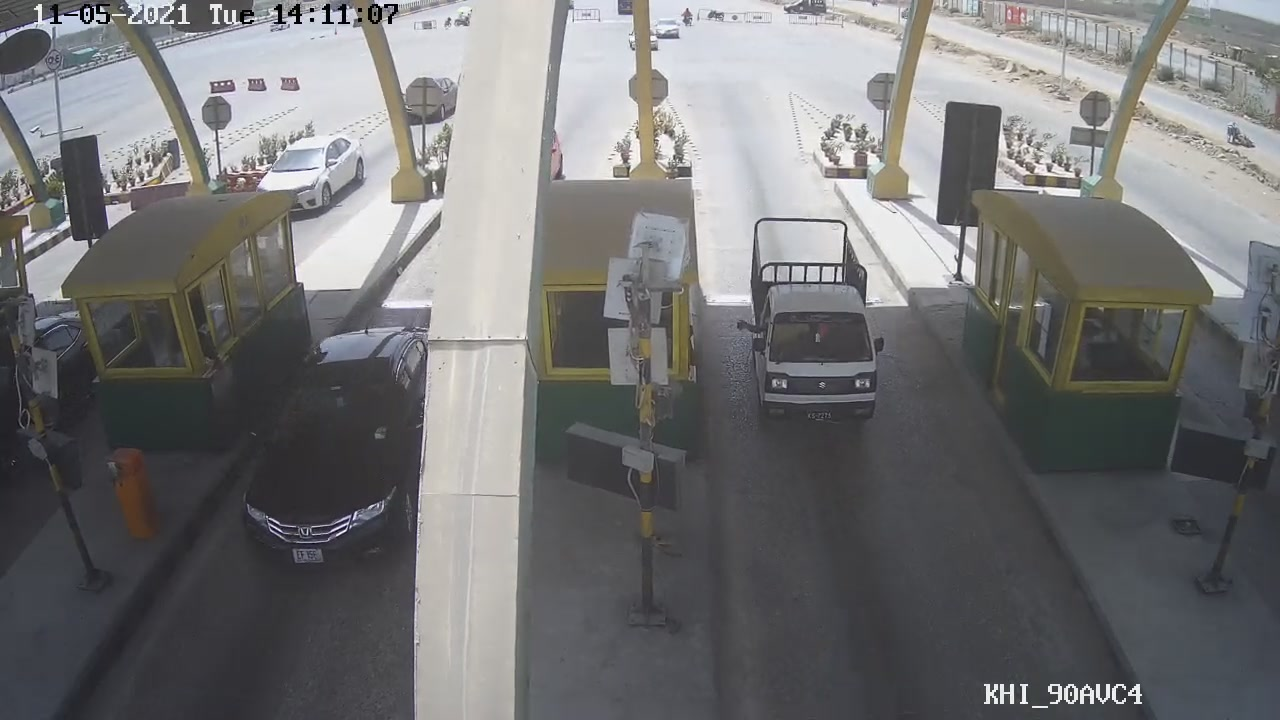F1: (740, 214, 889, 425)
